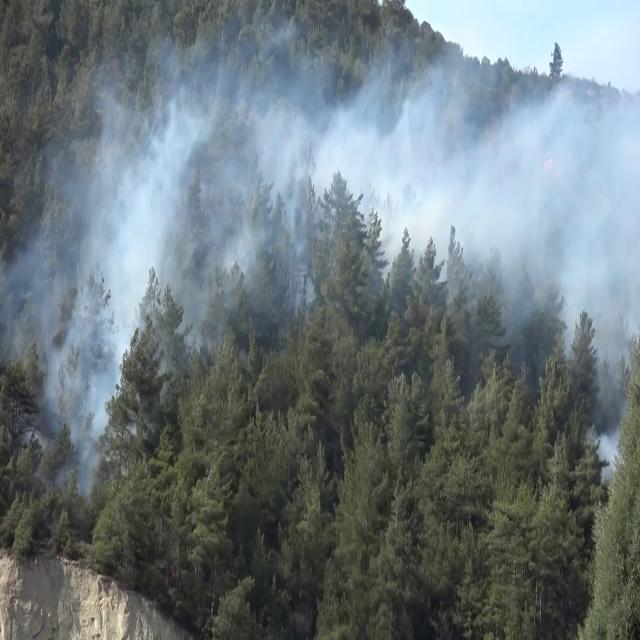Smoke: (42, 60, 640, 436)
